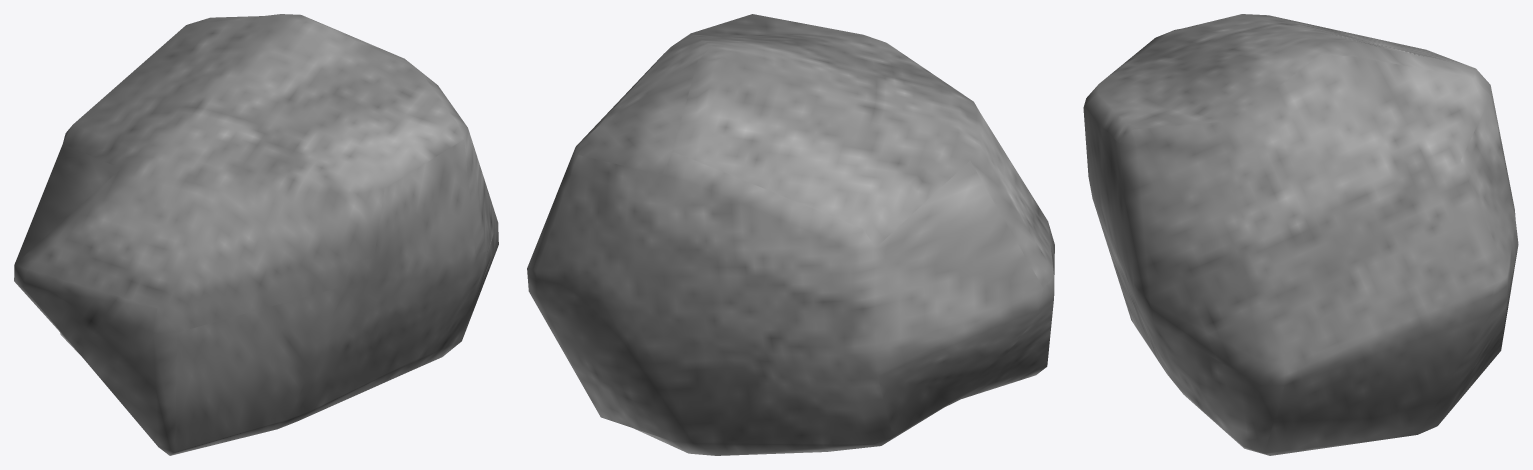
Rendered from Stone01.fbx.
The picture shows the model from 3 angles, left to right: view 1: azimuth 30°, elevation 25°; view 2: azimuth 150°, elevation 25°; view 3: azimuth 270°, elevation 25°; orthographic projection. The views are drawn at different scales.
Visible parts, largest first — view 1: Stone01_LOD0; view 2: Stone01_LOD0; view 3: Stone01_LOD0.
Part boxes in pixels (x1=…): Stone01_LOD0: x1=14, y1=14, x2=498, y2=455; Stone01_LOD0: x1=527, y1=14, x2=1054, y2=455; Stone01_LOD0: x1=1083, y1=14, x2=1518, y2=455.
Size of what is drawn, in the model's own units: 1.15 by 0.84 by 0.8736.
